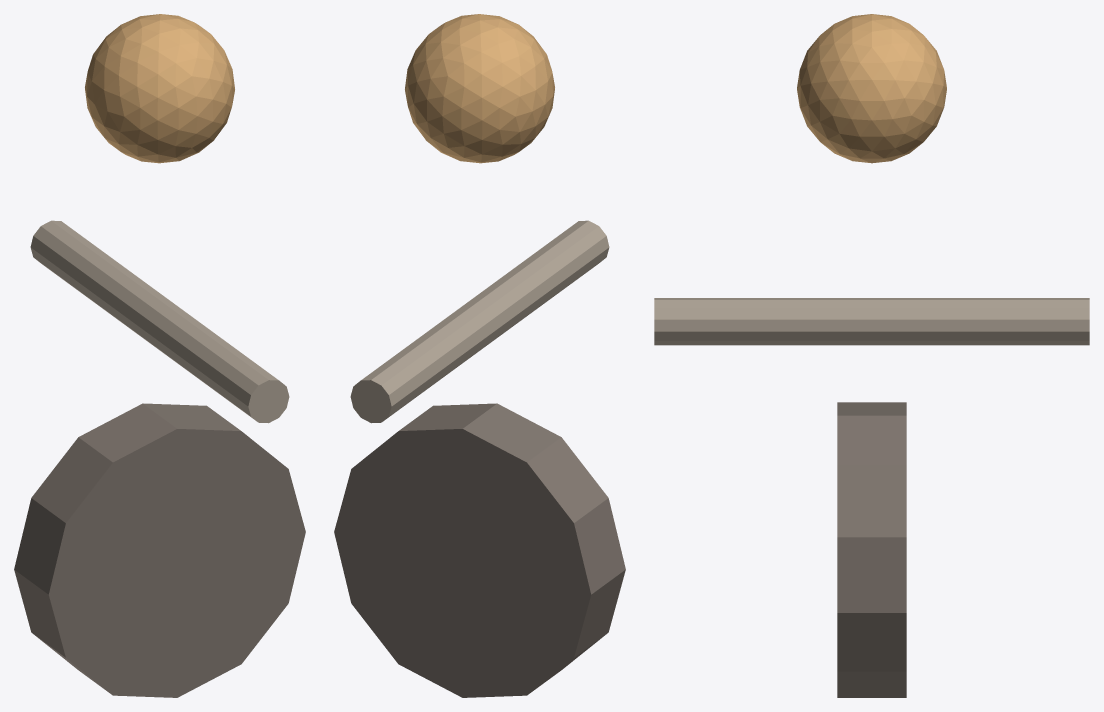
Rendered from Exploration_Beacon.glb.
3 views of the same model, side by side, from view 1: azimuth 30°, elevation 25°; view 2: azimuth 150°, elevation 25°; view 3: azimuth 270°, elevation 25° (orthographic).
Parts seen in each view (by area): view 1: Beacon_Base, Beacon_Light, Beacon_Pole; view 2: Beacon_Base, Beacon_Light, Beacon_Pole; view 3: Beacon_Pole, Beacon_Base, Beacon_Light.
Part boxes in pixels (x1,y1,x2,y2): Beacon_Base: (14,403,305,697); Beacon_Light: (85,14,234,163); Beacon_Pole: (30,220,289,423); Beacon_Base: (334,403,625,697); Beacon_Light: (405,14,554,163); Beacon_Pole: (350,220,609,423); Beacon_Pole: (654,298,1089,345); Beacon_Base: (837,402,906,697); Beacon_Light: (797,14,946,163).
Size of the model in its own units: 1.5 by 3.71 by 2.2.
